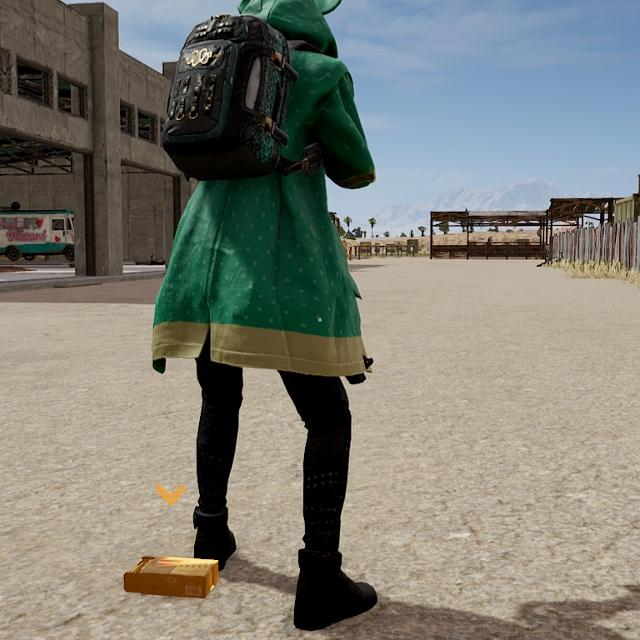head: (241, 2, 342, 56)
people: (165, 2, 395, 636)
